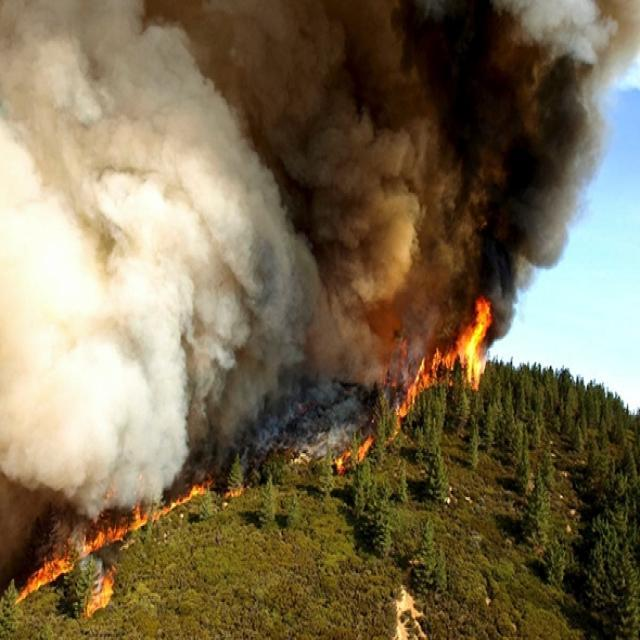Fire: (457, 292, 492, 390), (14, 550, 77, 604), (390, 341, 426, 428), (152, 483, 208, 518), (83, 566, 119, 618), (333, 435, 374, 474), (427, 342, 457, 386), (83, 525, 128, 554), (132, 502, 146, 529), (226, 487, 242, 502)
Smoke: (0, 0, 188, 520), (186, 0, 347, 441), (455, 0, 608, 293), (348, 0, 415, 380), (418, 0, 455, 352)
